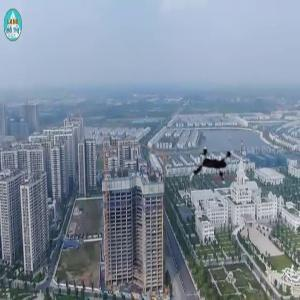drone: (184, 138, 249, 203)
